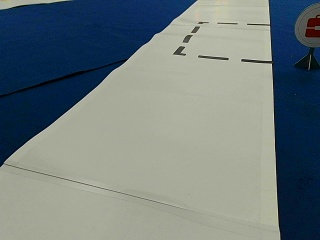company: (295, 3, 319, 46)
